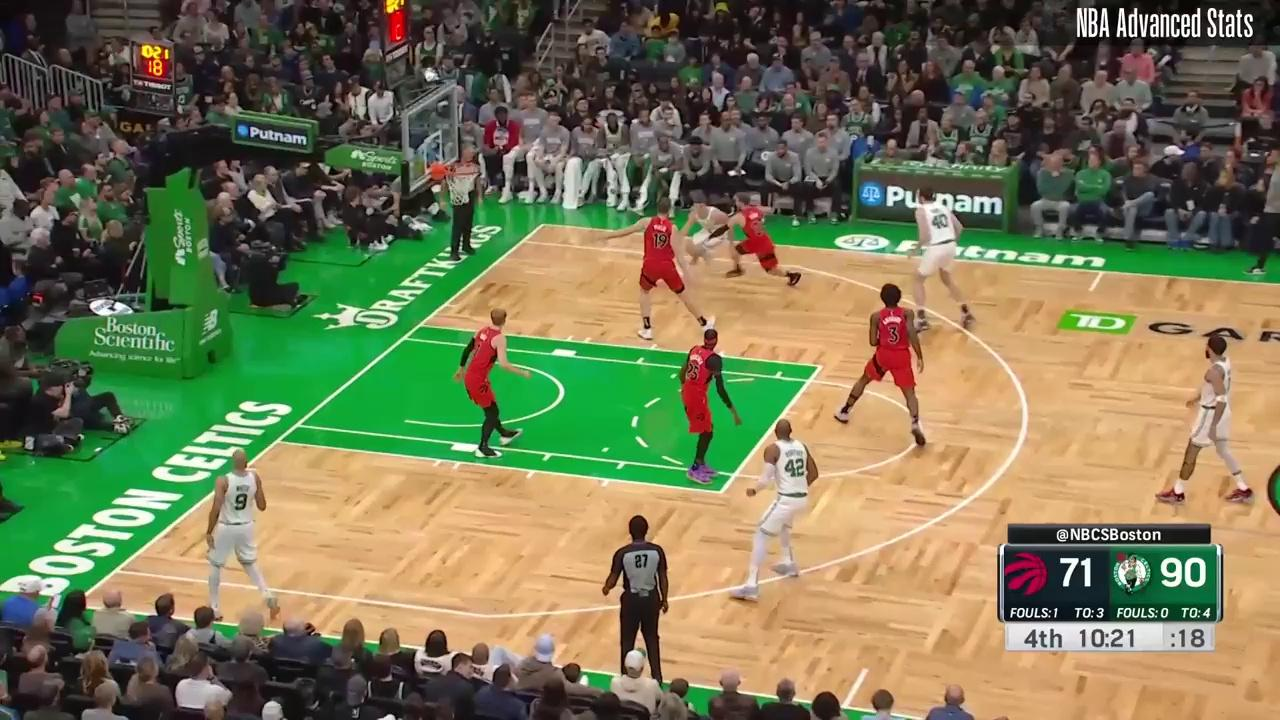3_dx: (516, 235, 532, 246)
3_sx: (109, 563, 125, 576)
b_dx: (538, 219, 549, 229)
free_adx: (814, 359, 828, 373)
free_asx: (713, 485, 728, 499)
free_bdx: (413, 318, 426, 330)
free_bsx: (271, 435, 285, 446)
mid_dx: (1084, 285, 1096, 295)
mid_sx: (828, 694, 861, 720), (858, 663, 873, 676)
referee: (602, 514, 671, 682), (448, 146, 483, 262)
team: (1157, 332, 1254, 505), (735, 416, 820, 603), (203, 447, 283, 622), (907, 183, 977, 339), (672, 194, 734, 281)
team1: (598, 198, 720, 339), (831, 282, 930, 452), (455, 308, 531, 464), (678, 324, 739, 486), (724, 185, 803, 290)
timer: (1073, 620, 1139, 654)
